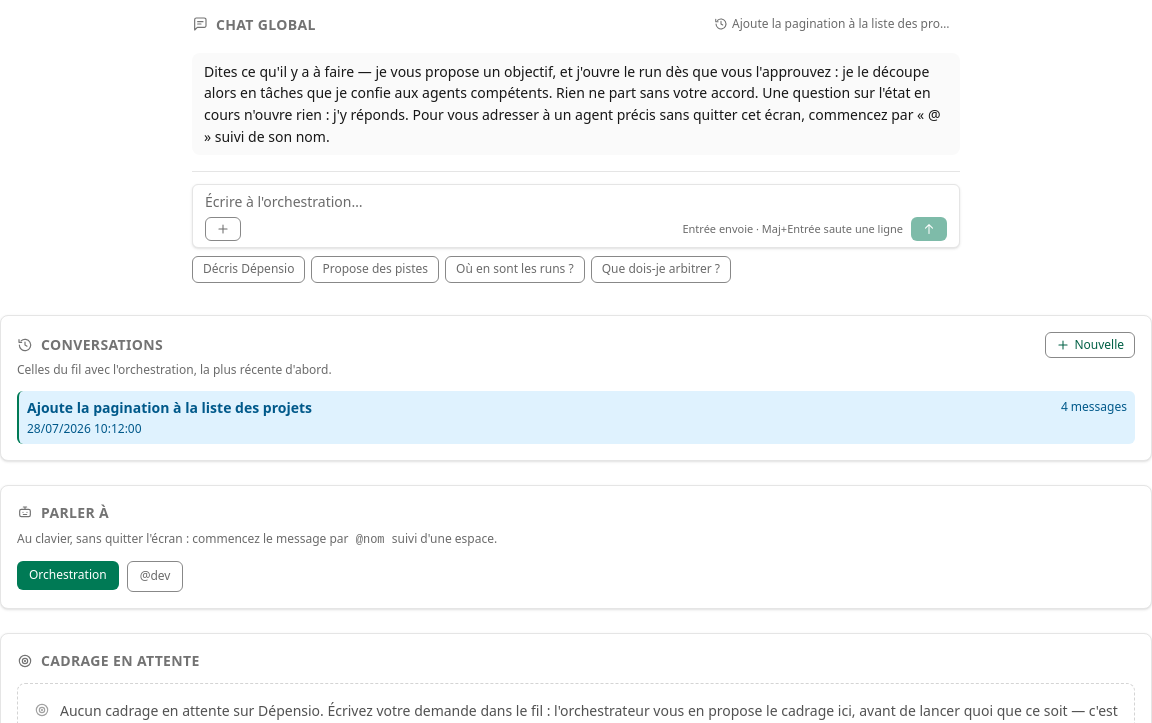
Test: le bandeau d'aparté, sur les jetons du socle (#878) › garde la boîte du bandeau, ses gestes et sa phrase
Click the button "@dev" at (155, 576), box x1=127 y1=561 x2=184 y2=592
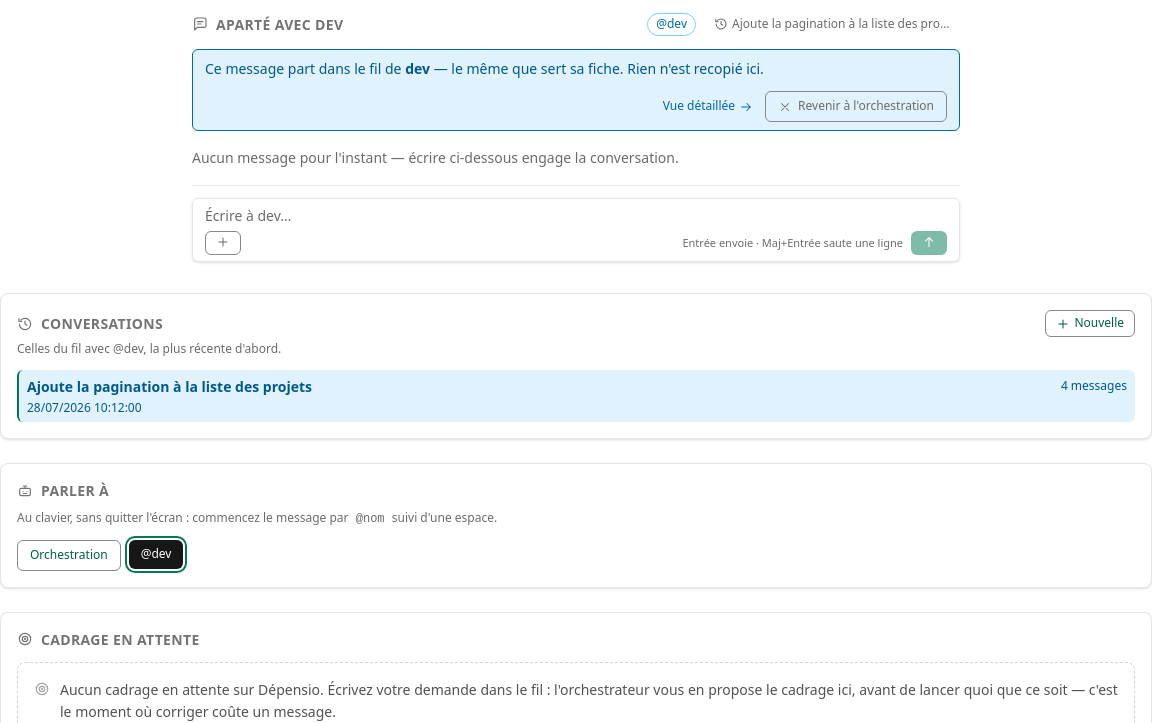
Expected: the element that starts with "Ce message part dans le fil de" shows "Rien n'est recopié ici", x1=434 y1=59 x2=764 y2=78
Expected: the button "Revenir à l'orchestration" is shown, x1=765 y1=91 x2=947 y2=122
